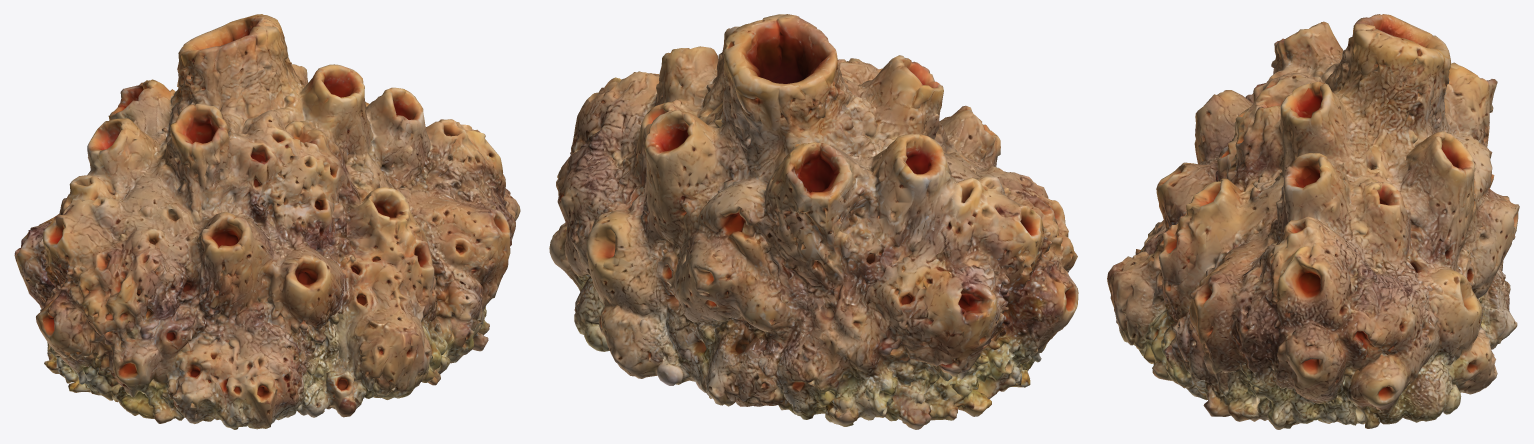
Rendered from coral-mass.glb.
3 views of the same model, side by side, from view 1: azimuth 30°, elevation 25°; view 2: azimuth 150°, elevation 25°; view 3: azimuth 270°, elevation 25° (orthographic). The views are drawn at different scales.
Visible parts, largest first — view 1: model; view 2: model; view 3: model.
Part boxes in pixels (x1=…): model: x1=14, y1=14, x2=520, y2=429; model: x1=549, y1=14, x2=1078, y2=429; model: x1=1107, y1=14, x2=1519, y2=429.
Bounding box in the file's own units: 1.89 × 1.21 × 1.4.
Materials: 1 (1 with a texture image).
